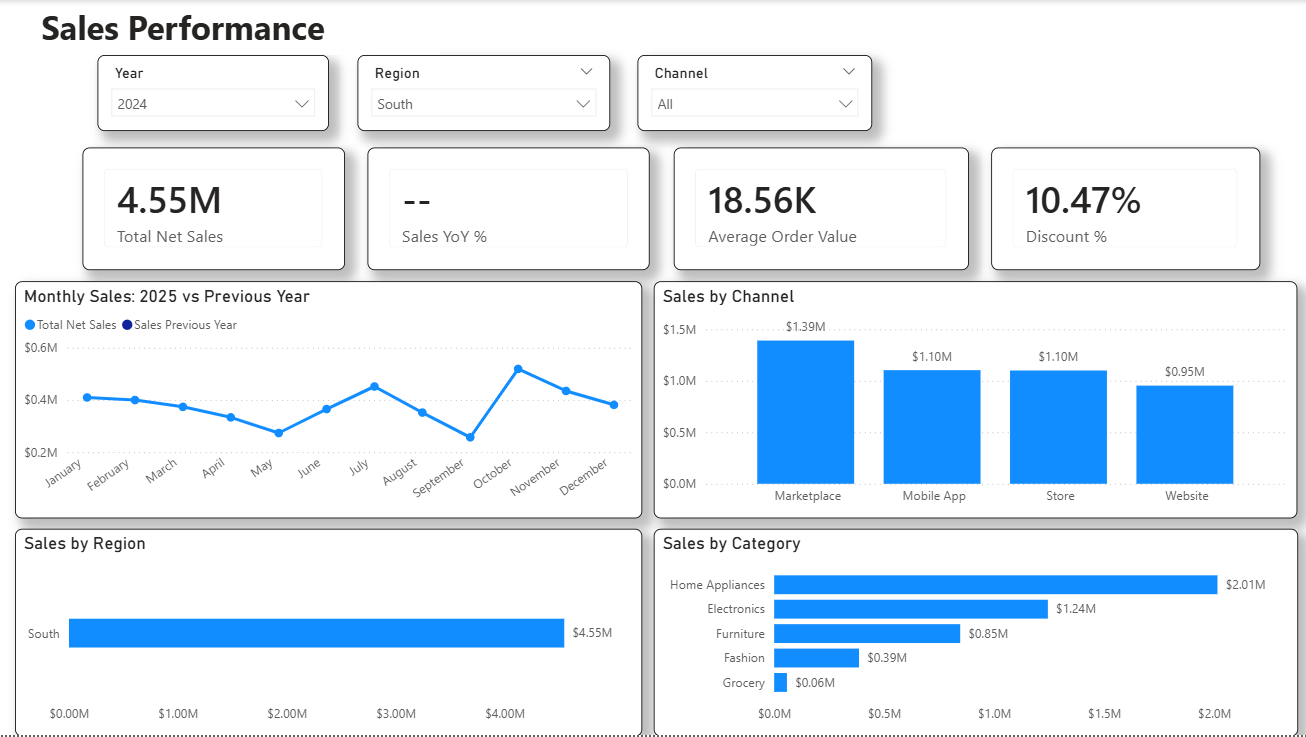

The page's visual inventory and layout, read from the dashboard file:
{"tool":"powerbi","page":{"name":"Sales Performance","canvas":[1280,720],"ordinal":1},"visuals":[{"type":"slicer","fields":{"Values":["Dim_Date.Year"]},"box":[95.4,53.8,226.2,74.6],"z":0},{"type":"slicer","fields":{"Values":["Dim_Region.Region"]},"box":[349.1,53.8,247,74.6],"z":1000},{"type":"slicer","fields":{"Values":["Fact_Sales_Clean.Channel"]},"box":[623.6,53.8,229.9,74.6],"z":2000},{"type":"textbox","box":[0,0,430.4,53.8],"z":3000},{"type":"cardVisual","fields":{"Data":["_Measures.Total Net Sales"]},"box":[80.7,144.3,256.8,119.8],"z":4000},{"type":"cardVisual","fields":{"Data":["_Measures.Sales YoY %"]},"box":[359.9,144.3,276.4,119.8],"z":5000},{"type":"cardVisual","fields":{"Data":["_Measures.Average Order Value"]},"box":[658.7,144.3,288.6,119.8],"z":6000},{"type":"cardVisual","fields":{"Data":["_Measures.Discount %"]},"box":[969.7,144.3,262.9,119.8],"z":7000},{"type":"lineChart","title":"Monthly Sales: 2025 vs Previous Year","fields":{"Category":["Dim_Date.MonthFull"],"Y":["_Measures.Total Net Sales","_Measures.Sales Previous Year"]},"box":[14.7,275.1,613.9,232.3],"z":8000},{"type":"clusteredColumnChart","title":"Sales by Channel","fields":{"Category":["Fact_Sales_Clean.Channel"],"Y":["_Measures.Total Net Sales"]},"box":[639.5,275.1,629.8,232.3],"z":9000},{"type":"clusteredBarChart","title":"Sales by Region","fields":{"Category":["Dim_Store.Region"],"Y":["_Measures.Total Net Sales"]},"box":[14.7,517.3,613.9,203],"z":10000},{"type":"clusteredBarChart","title":"Sales by Category","fields":{"Category":["Dim_Product.Category"],"Y":["_Measures.Total Net Sales"]},"box":[640,517,630,203],"z":11000}]}

Visuals, with their boxes in screenshot pixels (x1, y1, x2, y2), scaled from the page's 1280x720 canvas onto the 1306x737 screenshot:
slicer - Dim_Date.Year: [97,55,328,131]
slicer - Dim_Region.Region: [356,55,608,131]
slicer - Fact_Sales_Clean.Channel: [636,55,871,131]
textbox: [0,0,439,55]
cardVisual - _Measures.Total Net Sales: [82,148,344,270]
cardVisual - _Measures.Sales YoY %: [367,148,649,270]
cardVisual - _Measures.Average Order Value: [672,148,967,270]
cardVisual - _Measures.Discount %: [989,148,1258,270]
"Monthly Sales: 2025 vs Previous Year" lineChart: [15,282,641,519]
"Sales by Channel" clusteredColumnChart: [652,282,1295,519]
"Sales by Region" clusteredBarChart: [15,530,641,736]
"Sales by Category" clusteredBarChart: [653,529,1296,736]
